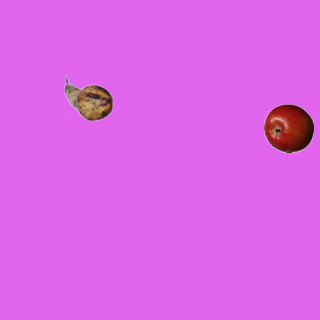Apple Braeburn: (263, 103, 313, 153)
Pear Abate: (63, 73, 113, 123)
